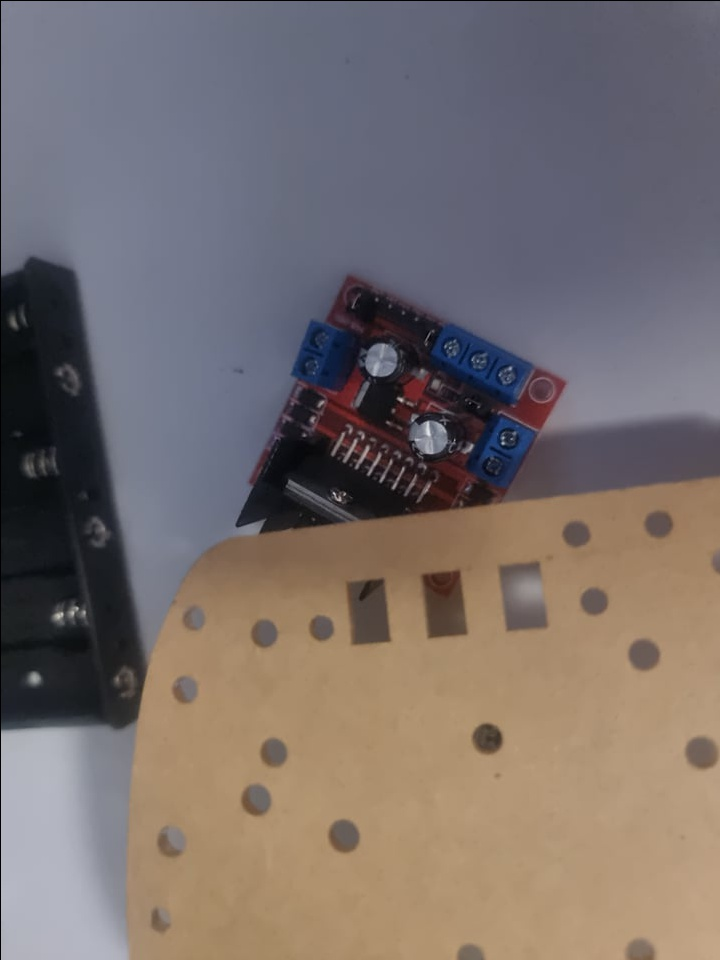BATTERY BOX: (0, 253, 143, 750)
MOTOR: (228, 274, 566, 583)
